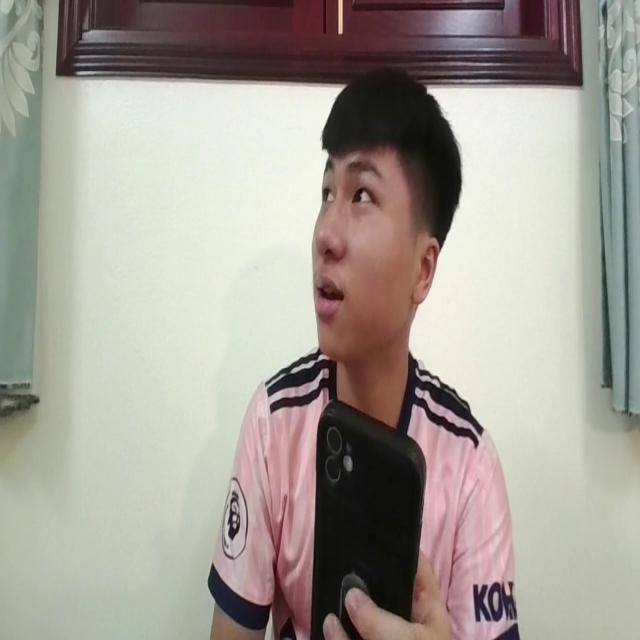phone: (309, 392, 425, 640)
student: (209, 59, 516, 640)
